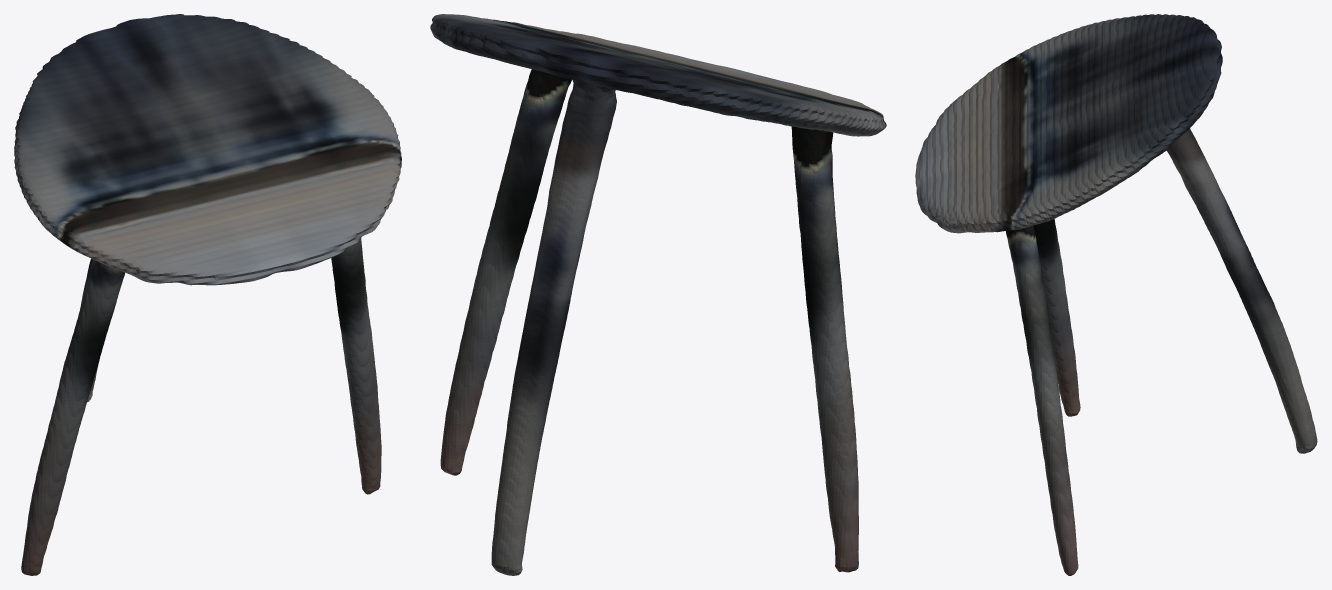
File: table-004.glb
3 renders of one model, left to right at view 1: azimuth 30°, elevation 25°; view 2: azimuth 150°, elevation 25°; view 3: azimuth 270°, elevation 25°, orthographic. The views are drawn at different scales.
Parts seen in each view (by area): view 1: geometry_0; view 2: geometry_0; view 3: geometry_0.
Part boxes in pixels (bbox=[...]): geometry_0: bbox=[14, 14, 401, 575]; geometry_0: bbox=[430, 14, 886, 575]; geometry_0: bbox=[915, 14, 1317, 575].
Size of the model in its own units: 45 by 55 by 45.
